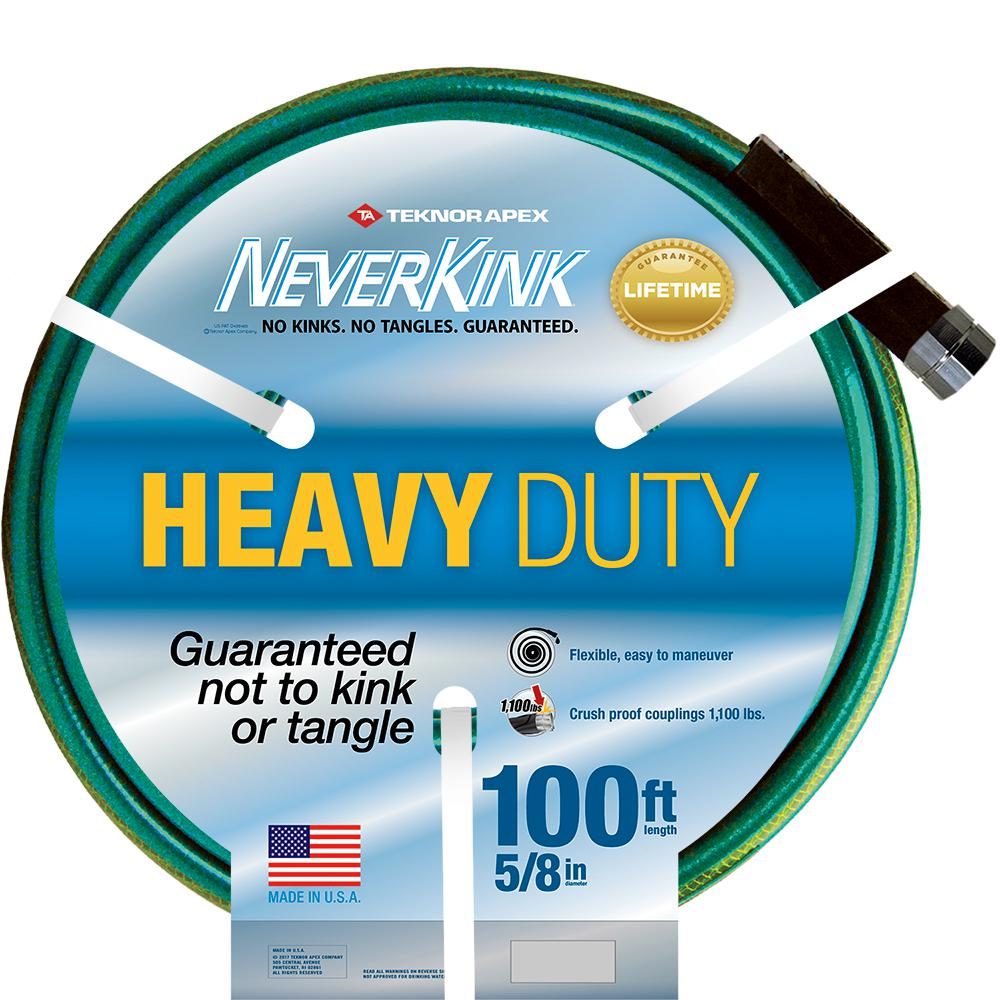Nonrec_Tangler: (47, 56, 960, 918)
